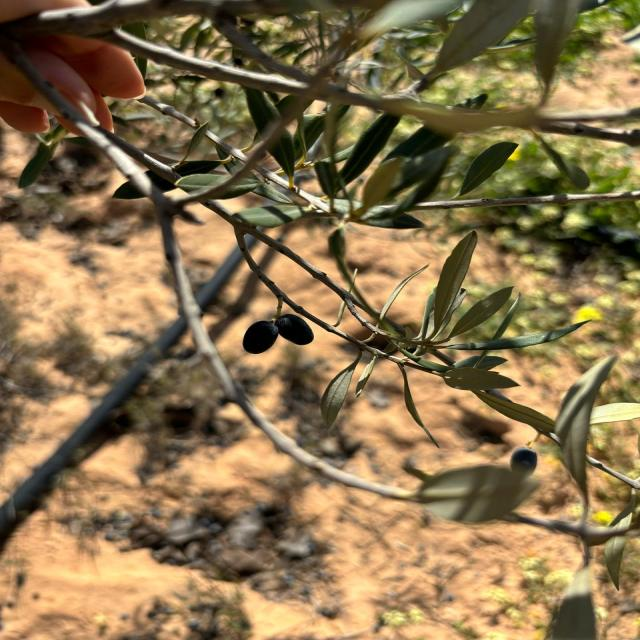Healthy: (429, 231, 477, 338), (459, 142, 517, 196), (321, 356, 359, 428), (441, 368, 517, 390), (243, 321, 278, 354), (275, 314, 313, 344)
